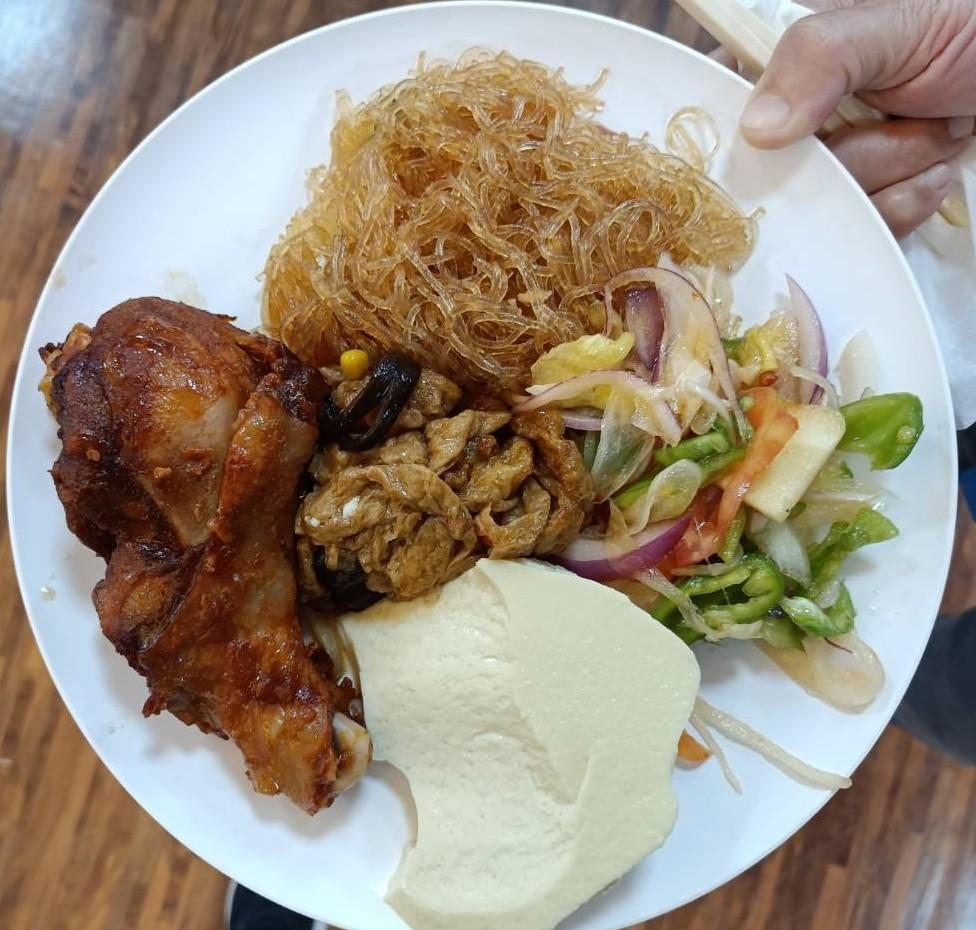big fried chicken leg: (6, 4, 976, 930)
braised fish fillet: (538, 258, 929, 714), (259, 47, 761, 364), (316, 547, 702, 930), (284, 346, 586, 602)
braised pork: (28, 290, 374, 808)
